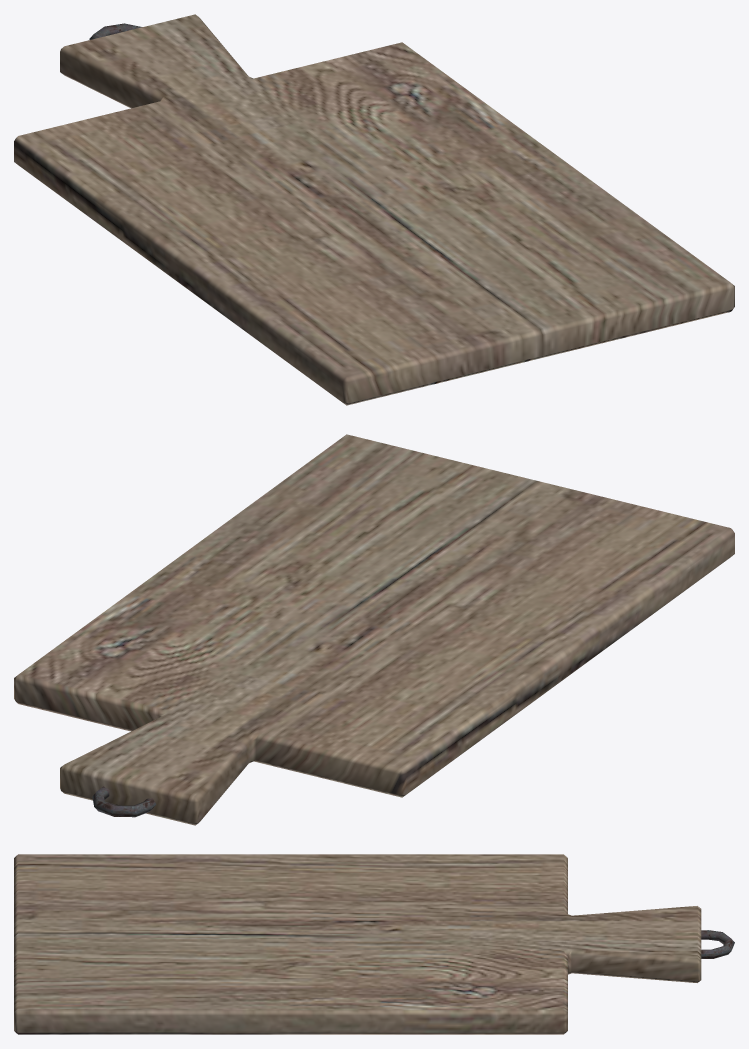
File: SM_KitchenwareL.FBX
3 renders of one model, top to bottom at view 1: azimuth 30°, elevation 25°; view 2: azimuth 150°, elevation 25°; view 3: azimuth 270°, elevation 25°, orthographic. The views are drawn at different scales.
Visible parts, largest first — view 1: SM_KitchenwareL; view 2: SM_KitchenwareL; view 3: SM_KitchenwareL.
Boxes of the visible parts, bbox=[...] form: SM_KitchenwareL: bbox=[14, 14, 734, 405]; SM_KitchenwareL: bbox=[14, 434, 734, 825]; SM_KitchenwareL: bbox=[14, 854, 734, 1034].
Size of the model in its own units: 18.23 by 1.29 by 34.9.
